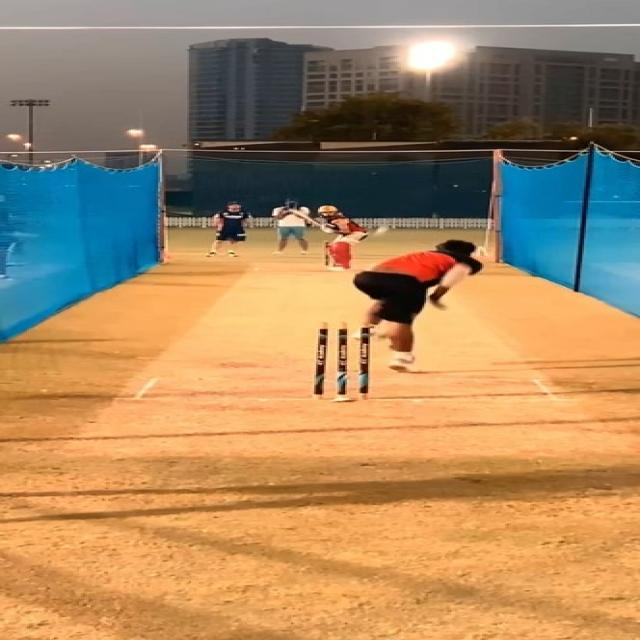batsman: (288, 205, 369, 271)
